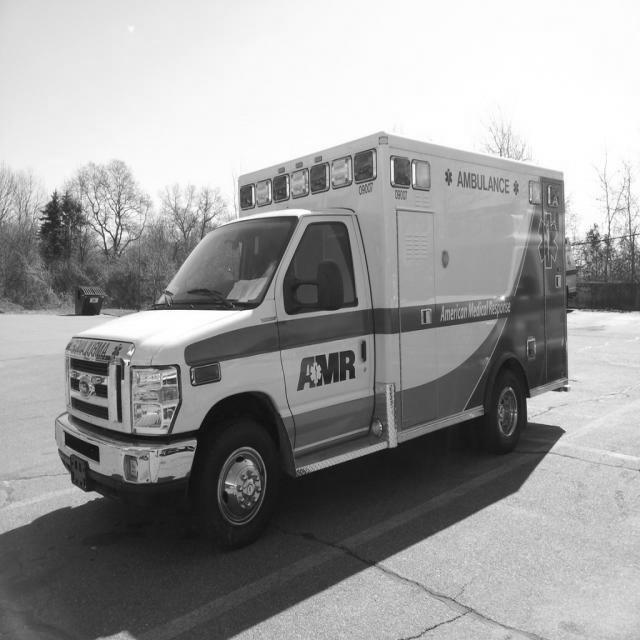Ambulance: (54, 132, 571, 554)
